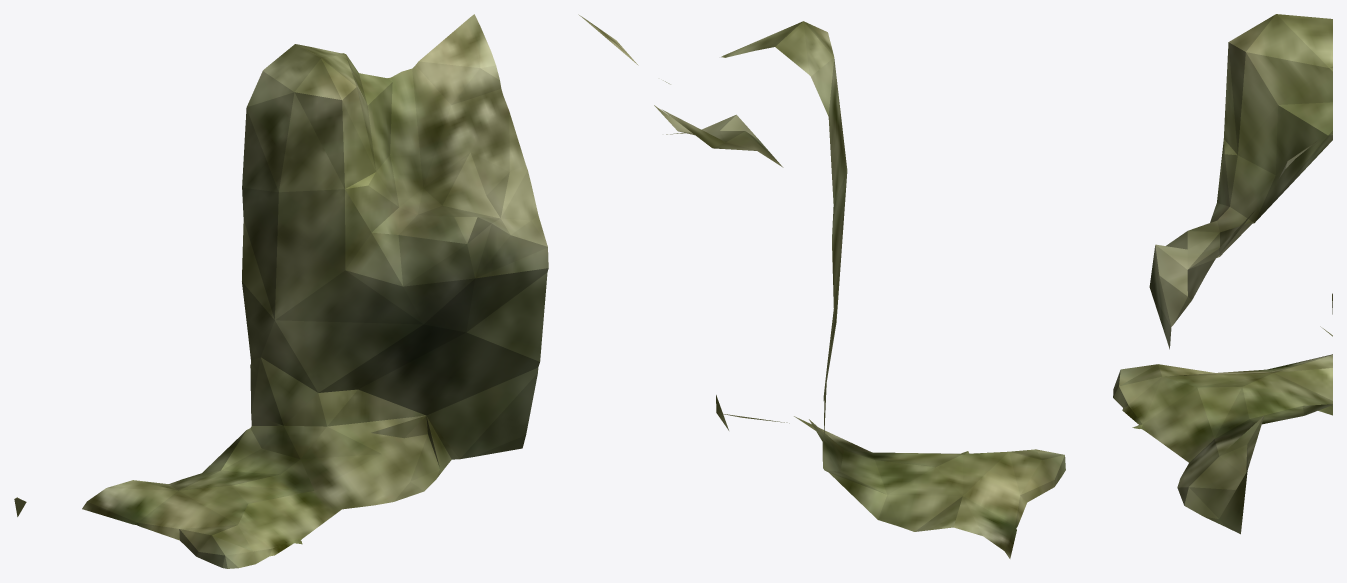
3 renders of one model, left to right at view 1: azimuth 30°, elevation 25°; view 2: azimuth 150°, elevation 25°; view 3: azimuth 270°, elevation 25°, orthographic. The views are drawn at different scales.
Size of the model in its own units: 1.53 by 1.33 by 0.5766.
Materials: 1 (1 with a texture image).
